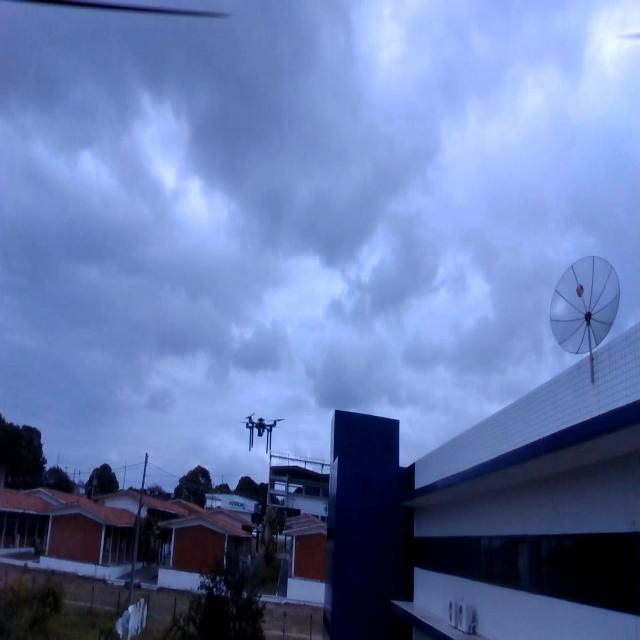-uav-: (237, 400, 288, 461)
